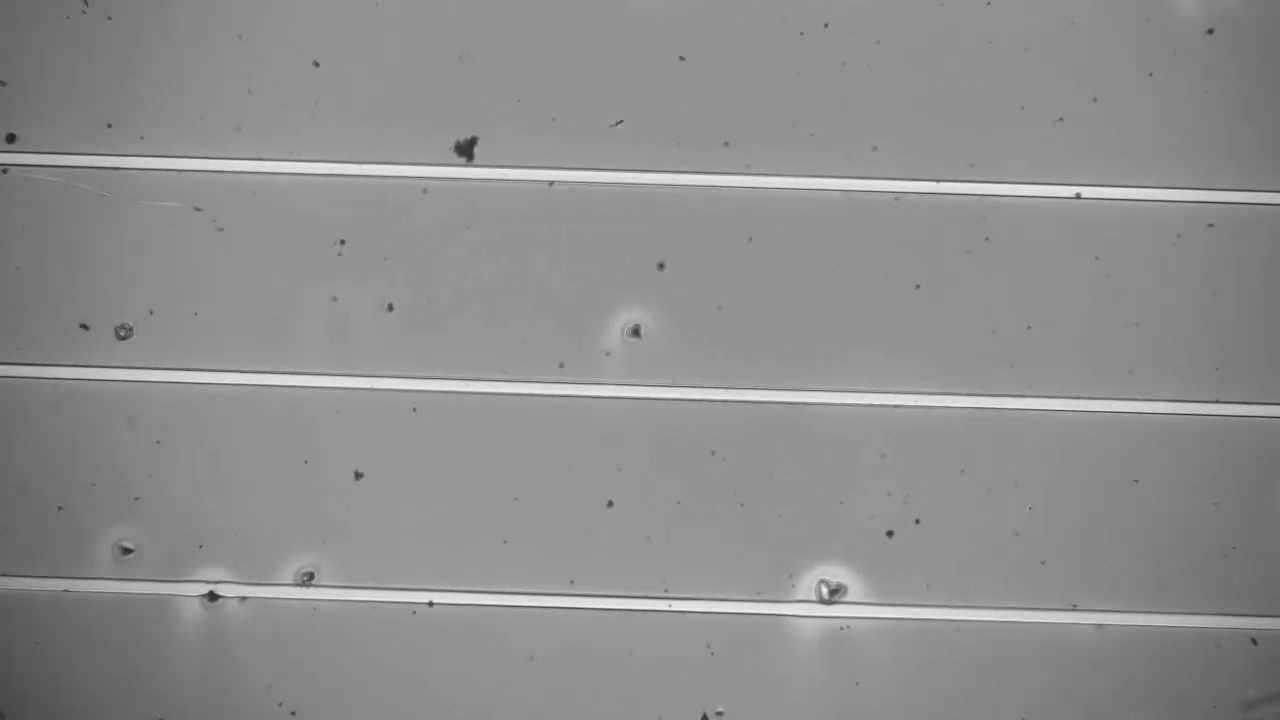stains_enbedded: (199, 579, 228, 609)
